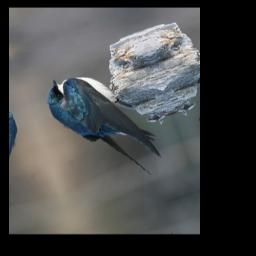Swallow: (41, 55, 168, 201)
